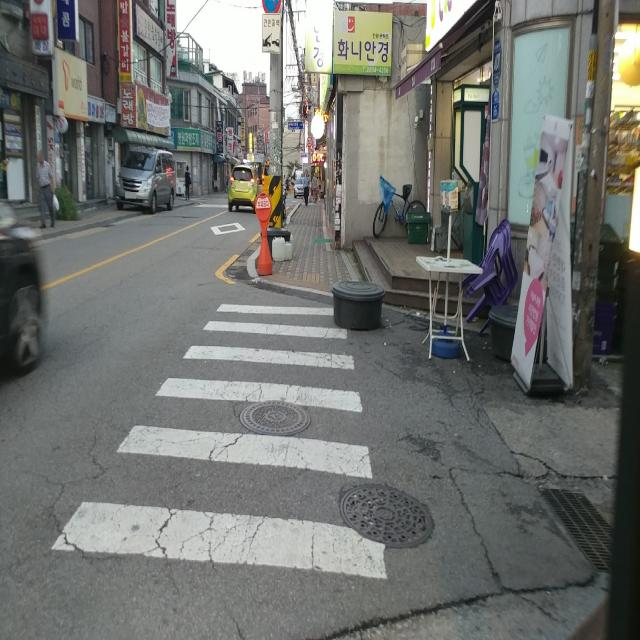횡단보도: (51, 304, 387, 578)
